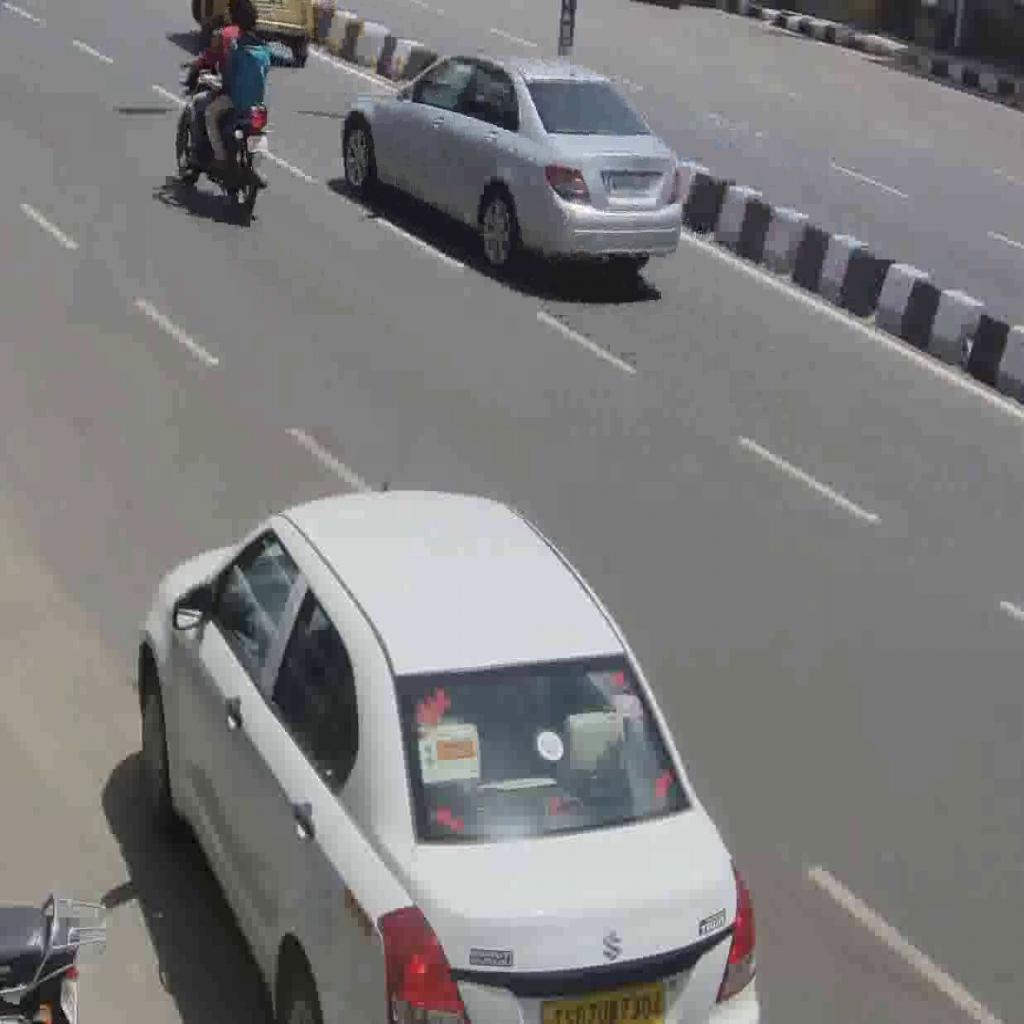helmet: (175, 55, 268, 222)
